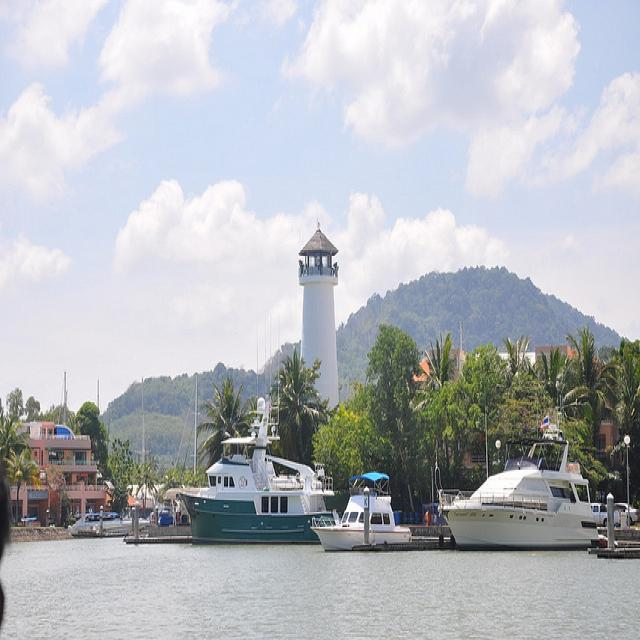Vehicle: (614, 502, 638, 528), (590, 504, 608, 527), (613, 510, 628, 528)
